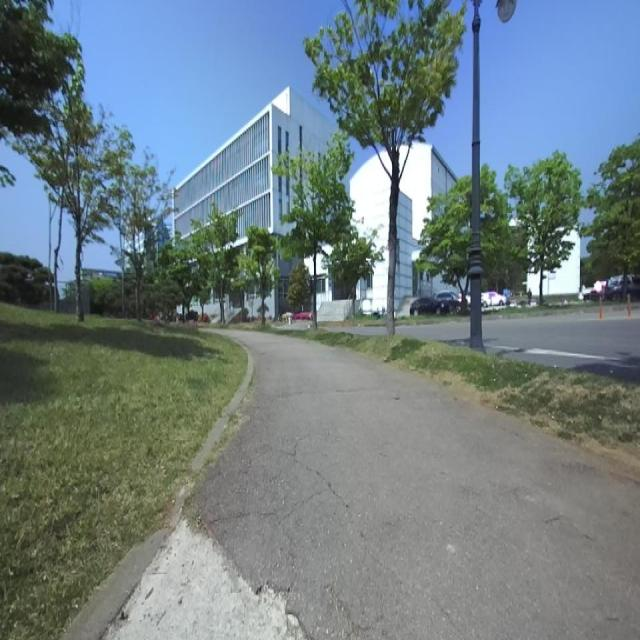sidewalk: (106, 332, 640, 639)
